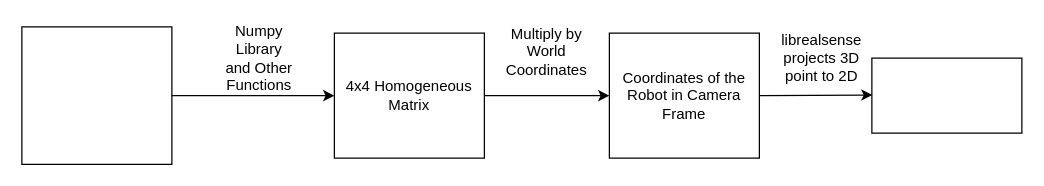
Image size: 1044x186. Some labels were removed from this diagram. The box of each missing label's shape, as (x1, y1, x2, y2) in pixels:
Pixel Coordinates of the Robot: (871, 57, 1022, 133)
World Coordinates and Quaternion of the ground robot: (21, 26, 172, 164)
